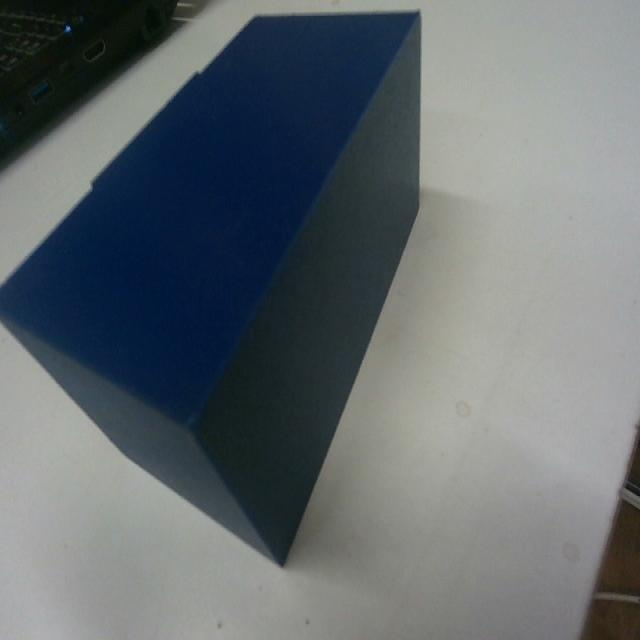Blue Cuboid: (0, 7, 424, 565)
